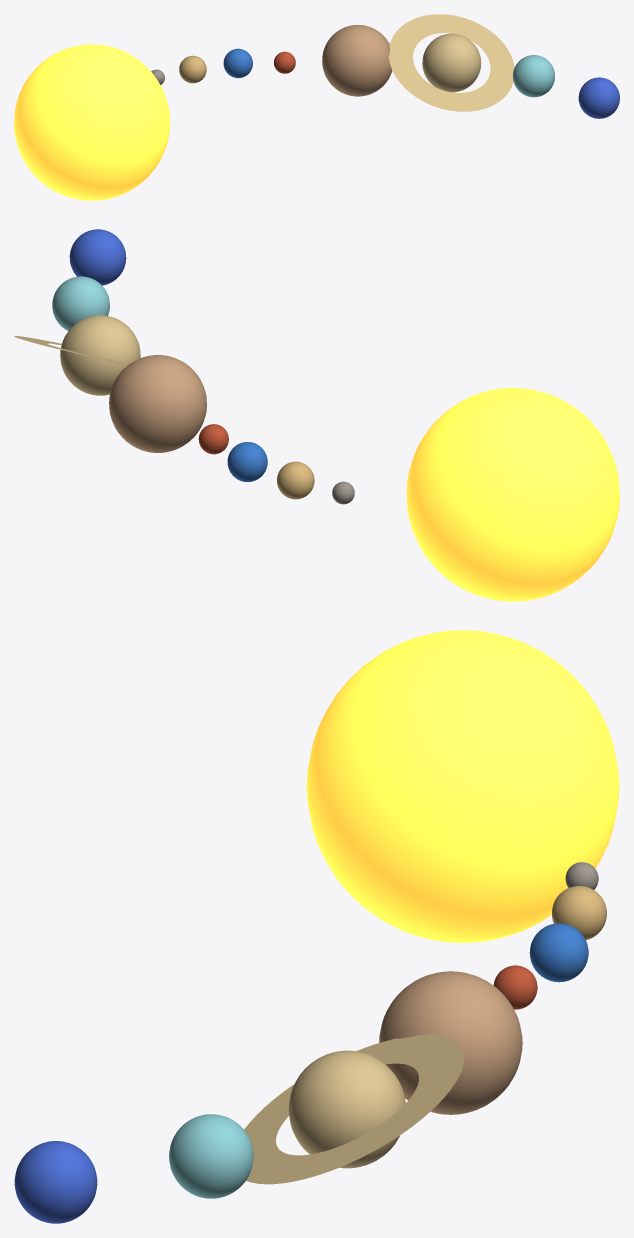
The picture shows the model from 3 angles, top to bottom: view 1: azimuth 30°, elevation 25°; view 2: azimuth 150°, elevation 25°; view 3: azimuth 270°, elevation 25°; orthographic projection. The views are drawn at different scales.
Parts seen in each view (by area): view 1: sun, saturn, jupiter, uranus, neptune, earth, venus, mars; view 2: sun, jupiter, saturn, neptune, uranus, earth, venus, mars; view 3: sun, saturn, jupiter, uranus, neptune, earth, venus, mars.
Part boxes in pixels (<box>): sun: <box>14,44,169,200</box>; saturn: <box>388,14,514,111</box>; jupiter: <box>322,25,392,96</box>; uranus: <box>513,55,554,97</box>; neptune: <box>578,77,619,118</box>; earth: <box>223,48,252,78</box>; venus: <box>179,55,206,83</box>; mars: <box>274,51,295,73</box>; sun: <box>406,388,619,601</box>; jupiter: <box>109,355,206,452</box>; saturn: <box>14,315,140,395</box>; neptune: <box>69,229,126,285</box>; uranus: <box>52,276,109,330</box>; earth: <box>227,442,267,481</box>; venus: <box>277,461,314,499</box>; mars: <box>198,424,228,454</box>; sun: <box>306,630,619,942</box>; saturn: <box>244,1034,463,1184</box>; jupiter: <box>379,971,522,1114</box>; uranus: <box>169,1114,253,1198</box>; neptune: <box>14,1141,97,1223</box>; earth: <box>529,923,588,982</box>; venus: <box>552,886,606,939</box>; mars: <box>493,965,537,1009</box>.
Bounding box in the file's own units: 4 × 1.1 × 2.13.
